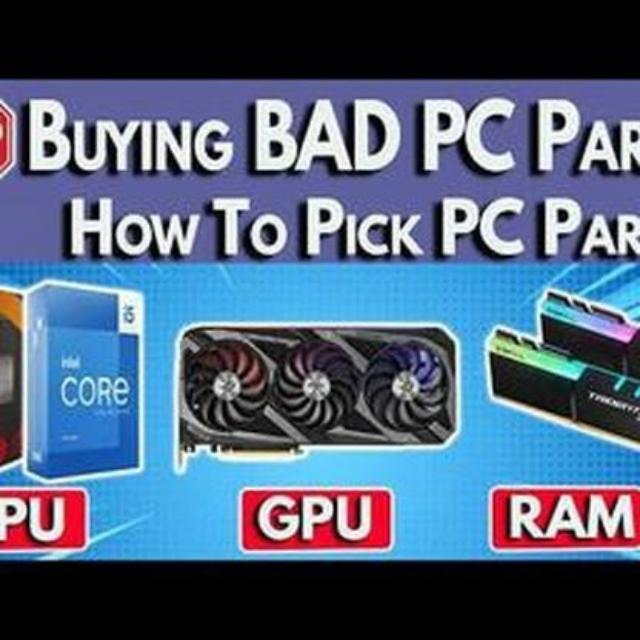GPU: (172, 321, 460, 464)
